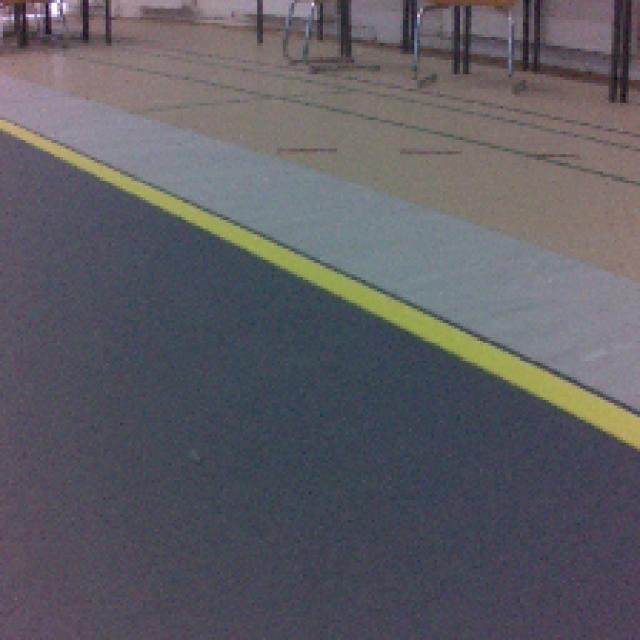Pedestrian crosswalk: (0, 119, 640, 451)
